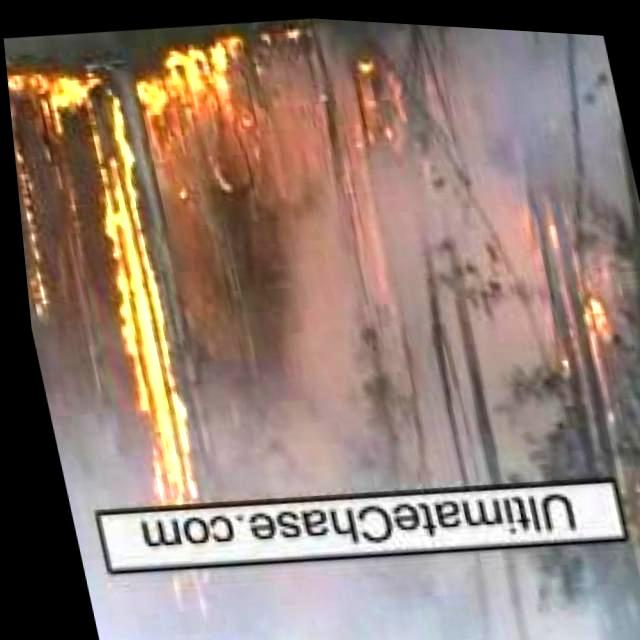fire: (31, 58, 218, 630), (514, 276, 640, 460), (122, 22, 270, 170), (312, 20, 428, 164), (6, 66, 46, 304)
